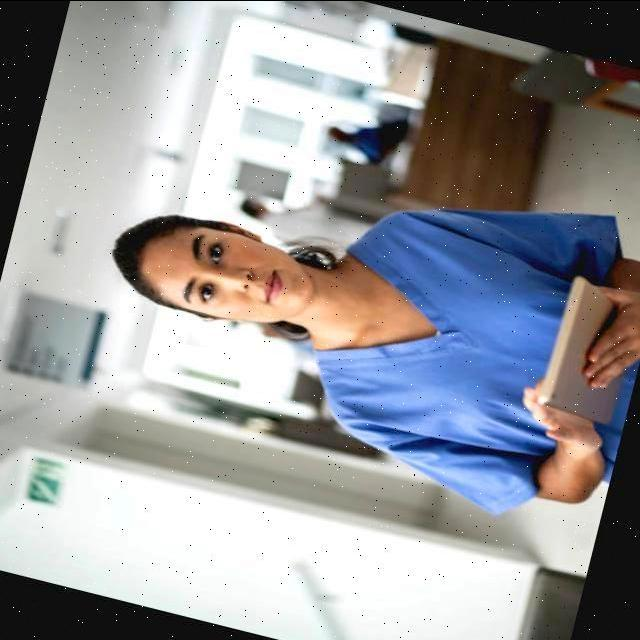no_hairnet: (226, 252, 312, 318)
